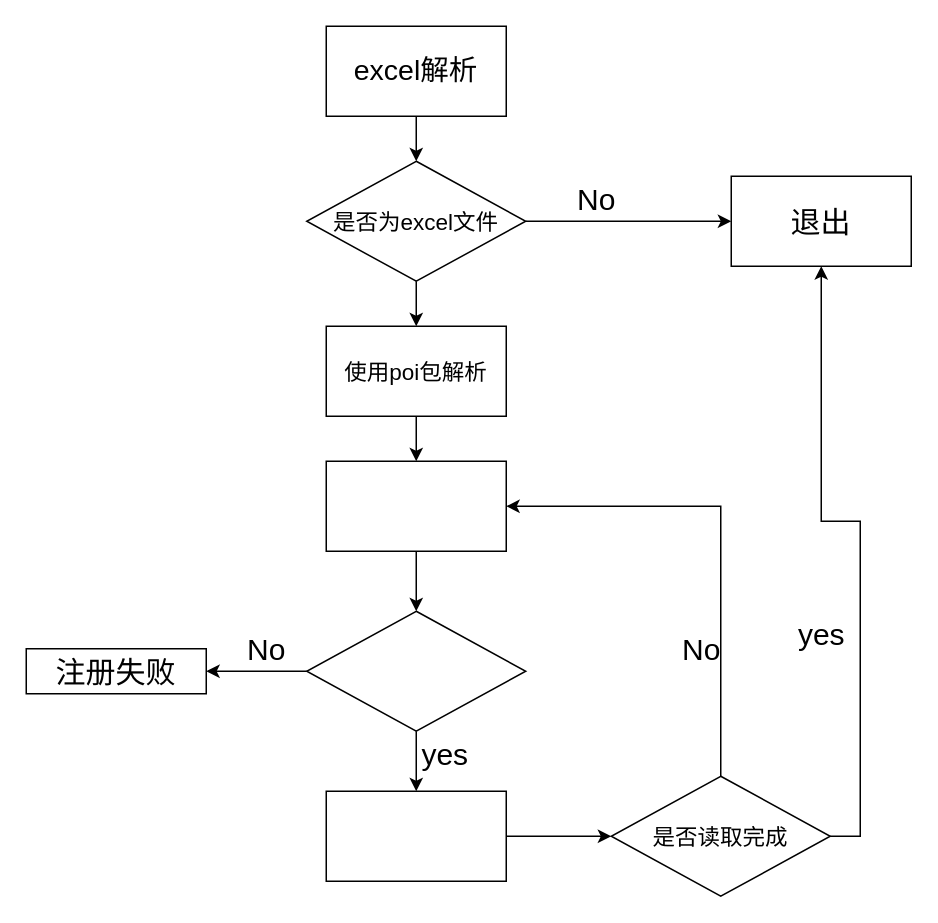
The diagram is 938 pixels wide and 923 high, and some of its shapes have lost their labels. Here are the shapes that lost their labels. From the top down, the box of each, then its label:
(325, 460, 506, 551): 循环读取数据
(305, 610, 526, 731): 数据是否符合要求
(325, 790, 506, 881): 注册成功
